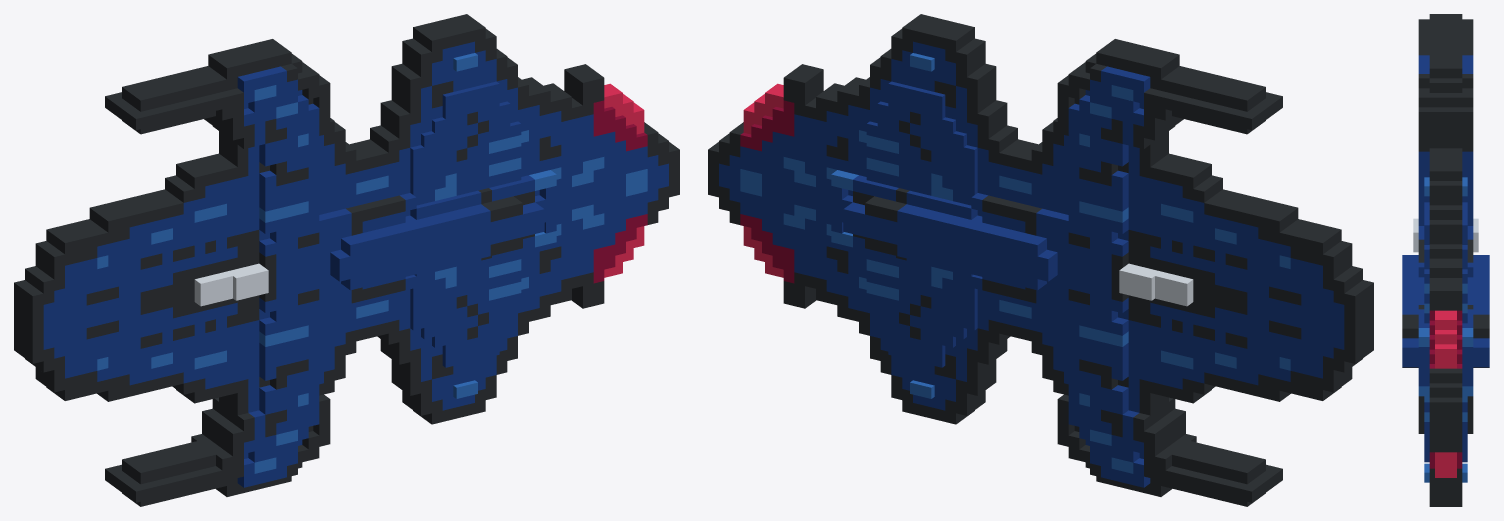
Rendered from Battleship.fbx.
The picture shows the model from 3 angles, left to right: view 1: azimuth 30°, elevation 25°; view 2: azimuth 150°, elevation 25°; view 3: azimuth 270°, elevation 25°; orthographic projection. The views are drawn at different scales.
Visible parts, largest first — view 1: generated; view 2: generated; view 3: generated.
Part boxes in pixels (bbox=[...]): generated: bbox=[14, 14, 679, 506]; generated: bbox=[708, 14, 1373, 506]; generated: bbox=[1402, 14, 1489, 506].
Size of the model in its own units: 600 by 380 by 80.
